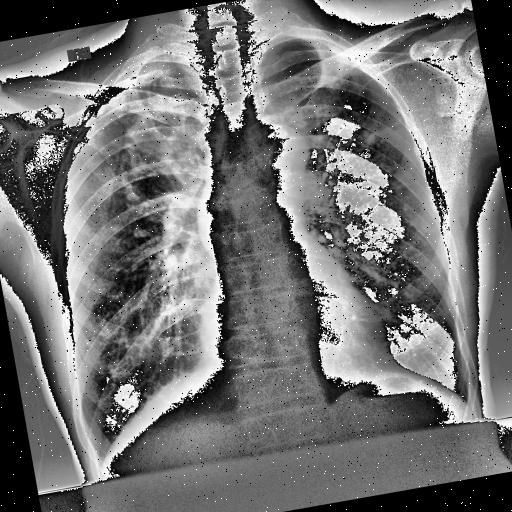1- Atelectasis: (108, 40, 208, 160)
11- Pleural thickening: (82, 48, 206, 116), (80, 58, 198, 108)
13- Pulmonary fibrosis: (86, 94, 200, 206), (351, 116, 405, 149), (364, 116, 406, 144), (358, 122, 404, 144)
6- Infiltration: (86, 76, 208, 234)
7- Lung Opacity: (92, 63, 198, 194)
9- Other lesion: (144, 66, 168, 92)
